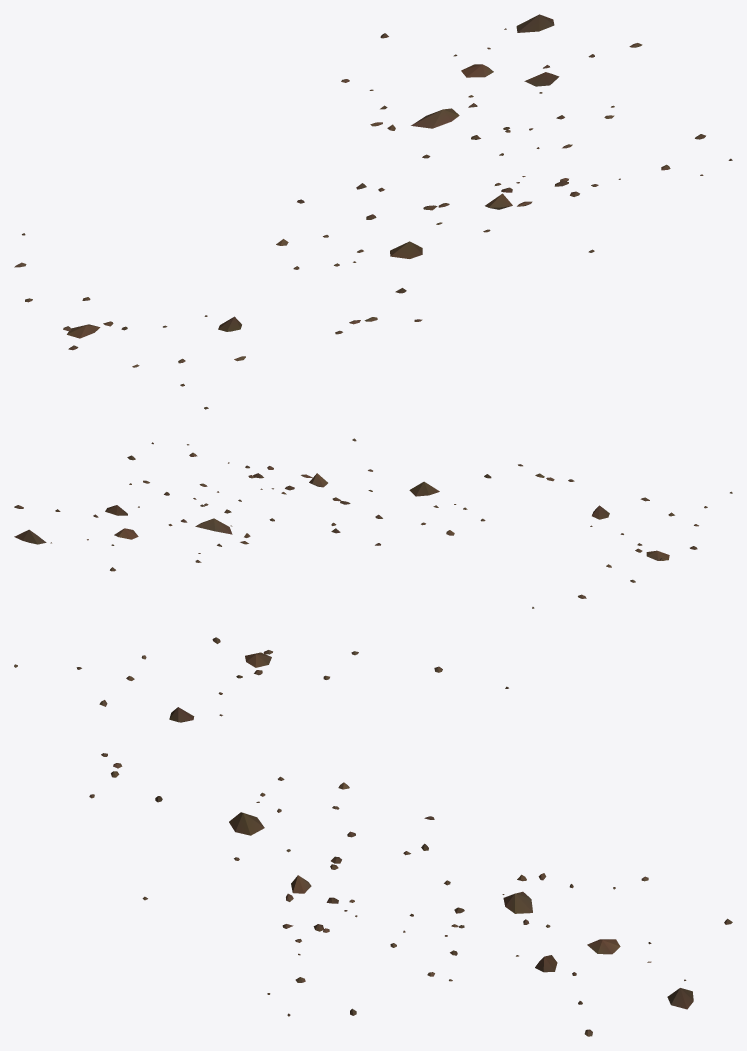
File: ground-3-1.glb
3 renders of one model, top to bottom at view 1: azimuth 30°, elevation 25°; view 2: azimuth 150°, elevation 25°; view 3: azimuth 270°, elevation 25°, orthographic. The views are drawn at different scales.
Visible parts, largest first — view 1: ground-3-1; view 2: ground-3-1; view 3: ground-3-1.
Boxes of the visible parts, bbox=[...] form: ground-3-1: bbox=[14, 14, 732, 409]; ground-3-1: bbox=[14, 438, 732, 608]; ground-3-1: bbox=[14, 637, 732, 1036].
Size of the model in its own units: 14.61 by 0.4506 by 11.14.
